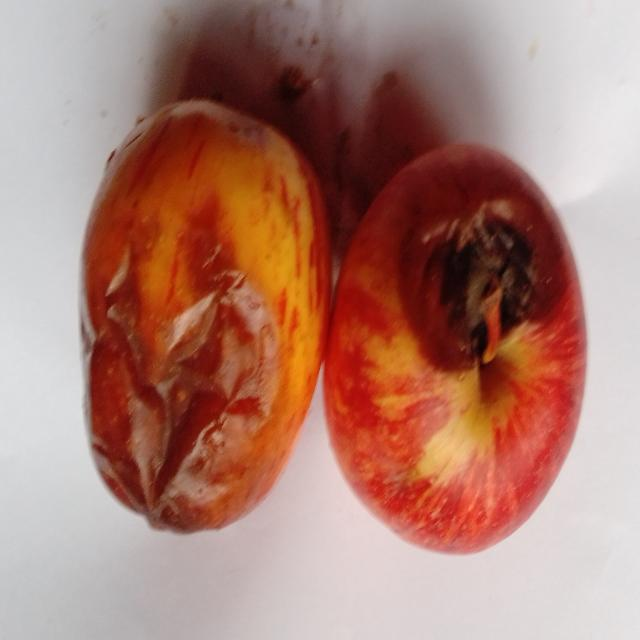apple: (82, 101, 330, 531), (325, 145, 586, 552)
